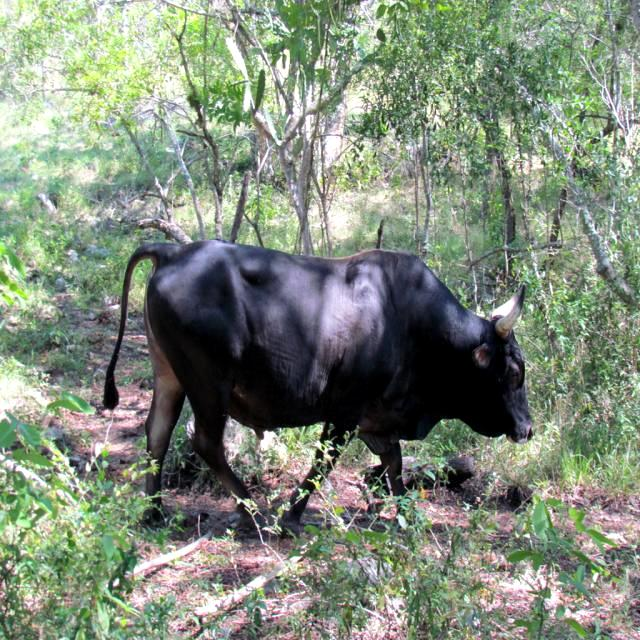COW: (104, 240, 531, 532)
